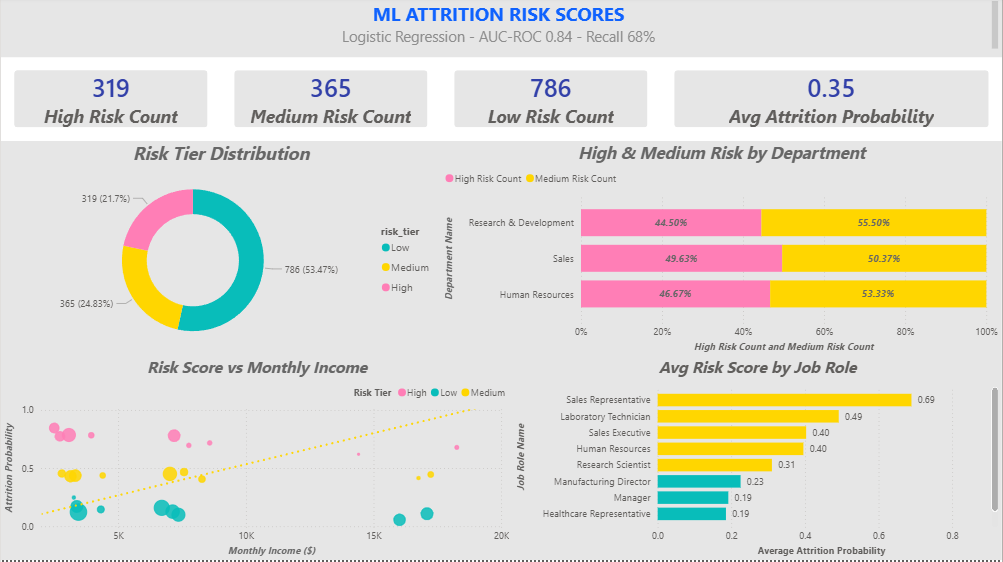

The dashboard page shown, as its layout file describes it:
{"tool":"powerbi","page":{"name":"Risk Scores","canvas":[1280,720],"ordinal":3},"visuals":[{"type":"textbox","box":[0,0,1280,76.7],"z":0},{"type":"cardVisual","fields":{"Data":["Measuress.High Risk Count"]},"box":[0,76.7,281.3,107.4],"z":1},{"type":"cardVisual","fields":{"Data":["Measuress.Medium Risk Count"]},"box":[281.3,76.7,281.3,107.4],"z":2},{"type":"cardVisual","fields":{"Data":["Measuress.Low Risk Count"]},"box":[562.6,76.7,281.3,107.4],"z":3},{"type":"cardVisual","fields":{"Data":["Measuress.Avg Attrition Probability"]},"box":[844,76.7,436,107.4],"z":4},{"type":"donutChart","title":" Risk Tier Distribution","fields":{"Category":["gold_attrition_predictions.risk_tier"],"Y":["CountNonNull(gold_attrition_predictions.employee_key)"]},"box":[0,184.1,562.6,274.9],"z":5},{"type":"hundredPercentStackedBarChart","title":"High & Medium Risk by Department","fields":{"Category":["gold_attrition_predictions.department_name"],"Y":["Measuress.High Risk Count","Measuress.Medium Risk Count"]},"box":[562.6,184.1,717.4,274.9],"z":6},{"type":"scatterChart","title":"Risk Score vs Monthly Income","fields":{"X":["Avg(gold_attrition_predictions.monthly_income)"],"Y":["Avg(gold_attrition_predictions.attrition_probability)"],"Series":["gold_attrition_predictions.risk_tier"],"Size":["CountNonNull(gold_attrition_predictions.employee_key)"],"Category":["gold_attrition_predictions.job_role_name"]},"box":[0,459.1,654.7,260.9],"z":7},{"type":"clusteredBarChart","title":"Avg Risk Score by Job Role","fields":{"Category":["gold_attrition_predictions.job_role_name"],"Y":["Measuress.Avg Attrition Probability"]},"box":[654.7,459.1,625.3,260.9],"z":8}]}

Visuals, with their boxes in screenshot pixels (x1, y1, x2, y2), scaled from the page's 1280x720 canvas onto the 1003x562 screenshot:
textbox: x1=0, y1=0, x2=1002, y2=60
cardVisual - Measuress.High Risk Count: x1=0, y1=60, x2=220, y2=144
cardVisual - Measuress.Medium Risk Count: x1=220, y1=60, x2=441, y2=144
cardVisual - Measuress.Low Risk Count: x1=441, y1=60, x2=661, y2=144
cardVisual - Measuress.Avg Attrition Probability: x1=661, y1=60, x2=1002, y2=144
" Risk Tier Distribution" donutChart: x1=0, y1=144, x2=441, y2=358
"High & Medium Risk by Department" hundredPercentStackedBarChart: x1=441, y1=144, x2=1002, y2=358
"Risk Score vs Monthly Income" scatterChart: x1=0, y1=358, x2=513, y2=561
"Avg Risk Score by Job Role" clusteredBarChart: x1=513, y1=358, x2=1002, y2=561
